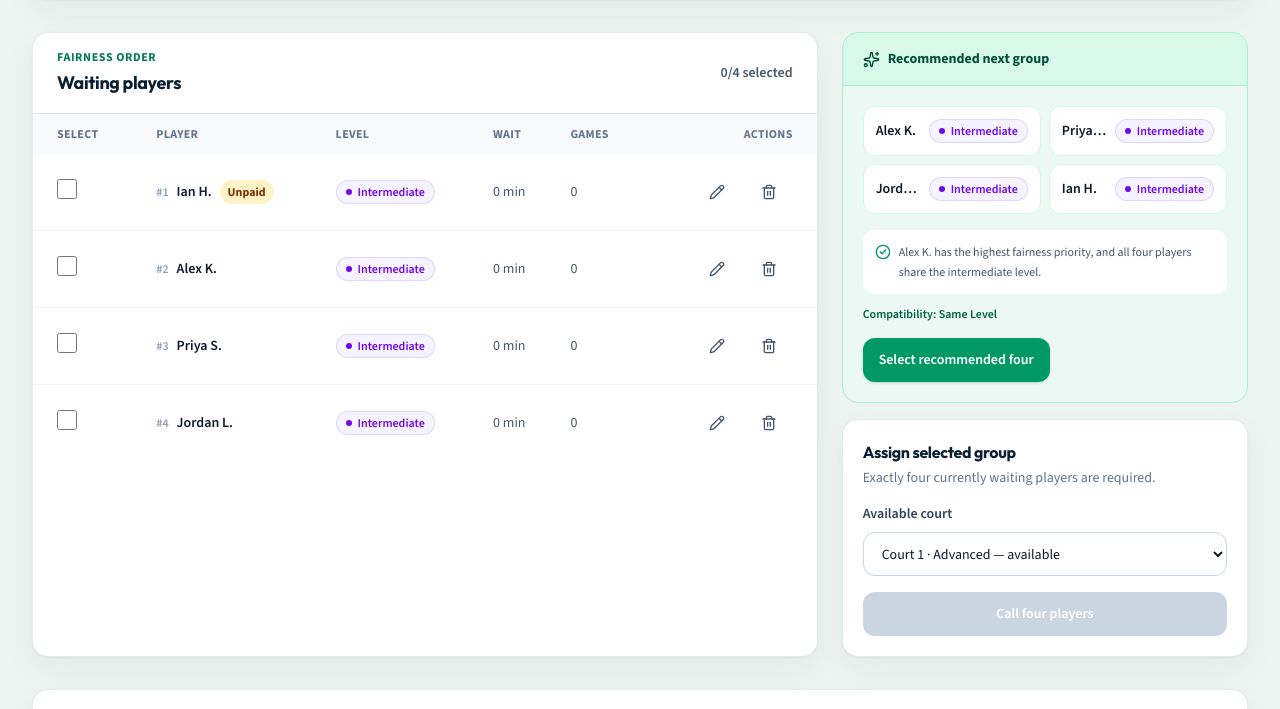
Scenario: application routes and major states › blocks duplicate assignment submissions while the first RPC is pending
The width and height of the screenshot is (1280, 709).
(page scrolled)
Click the button "Select recommended four" at (956, 360), box [863,338,1050,382]
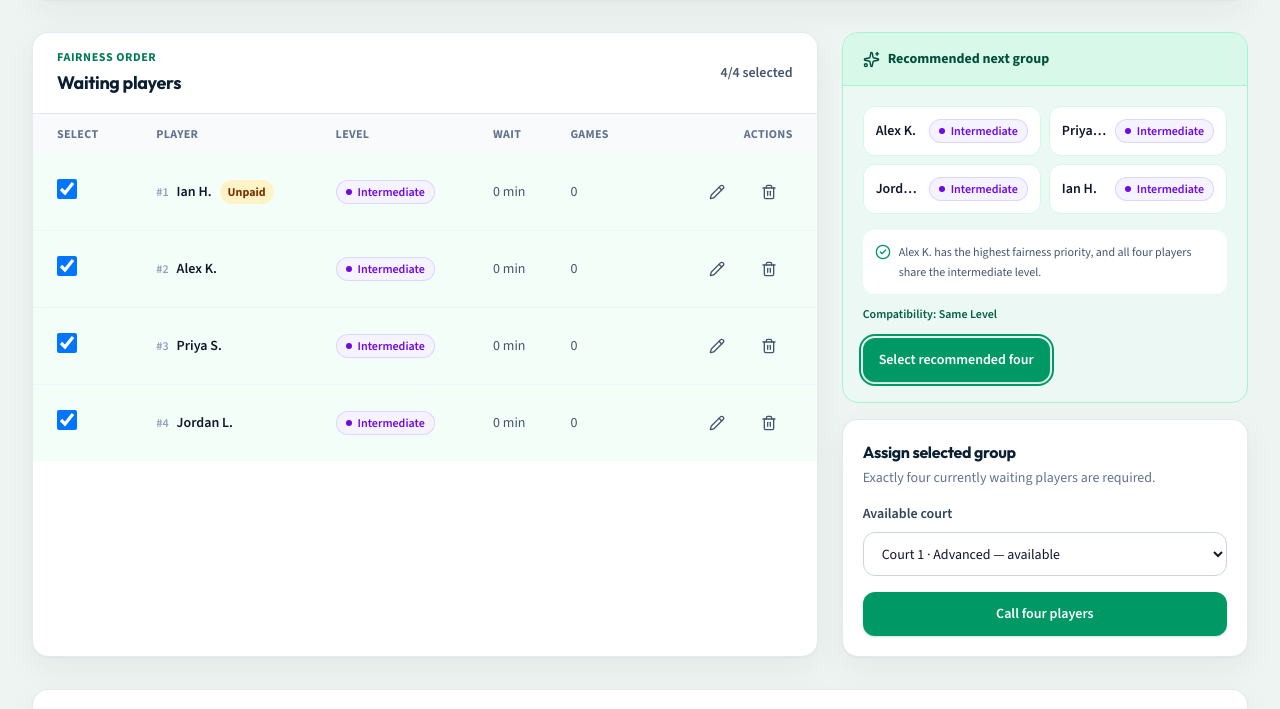
Double-click the button "Call four players" at (1045, 614), box [863,592,1227,636]
(page scrolled)
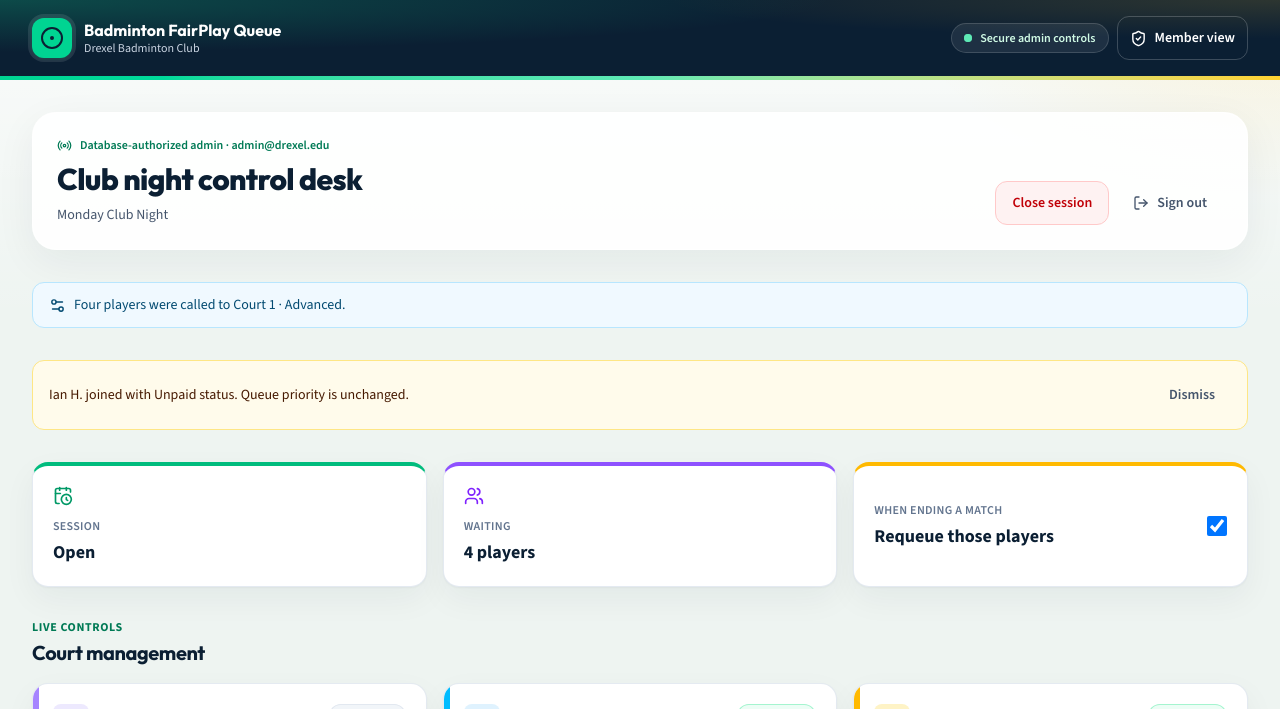
Check: the text "Four players were called to Court 1 · Advanced." is shown, box [32,282,1248,328]
